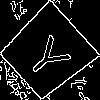Y: (23, 27, 80, 84)
